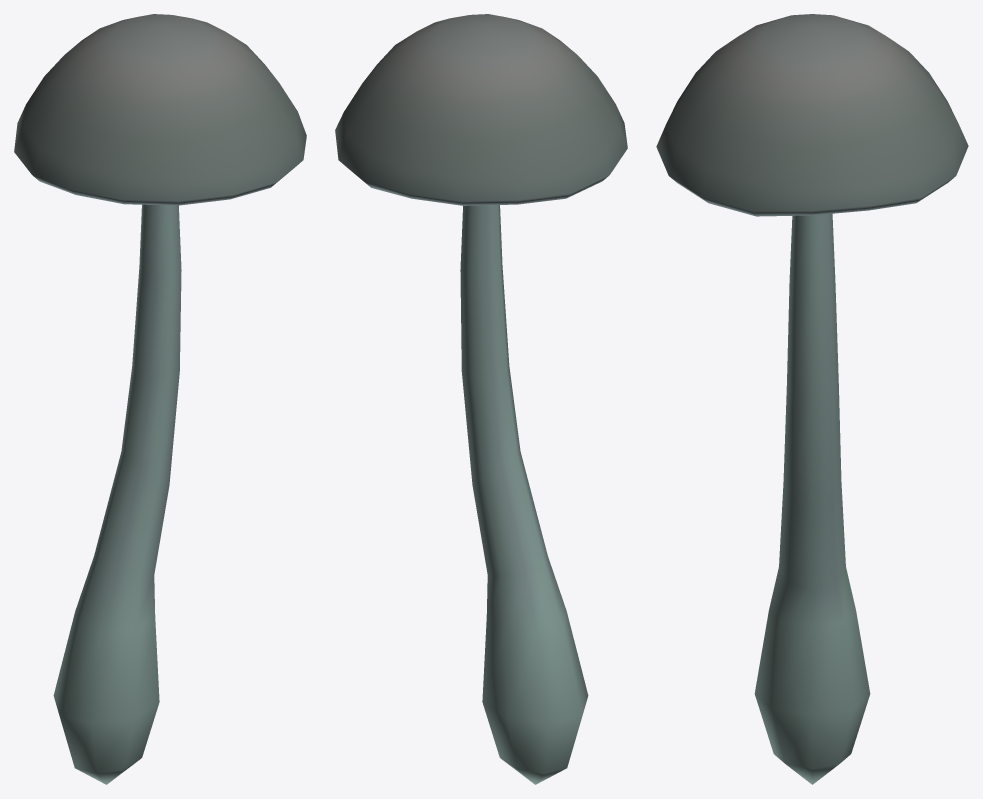
The model's file is plants-mushrooms-pale-blue-mushroom_v1.glb.
The picture shows the model from 3 angles, left to right: view 1: azimuth 30°, elevation 25°; view 2: azimuth 150°, elevation 25°; view 3: azimuth 270°, elevation 25°; orthographic projection. The views are drawn at different scales.
Parts seen in each view (by area): view 1: Pale Blue Mushroom_v1; view 2: Pale Blue Mushroom_v1; view 3: Pale Blue Mushroom_v1.
Boxes of the visible parts, x1,y1,x2,y2 form: Pale Blue Mushroom_v1: (14,14,306,784); Pale Blue Mushroom_v1: (335,14,627,784); Pale Blue Mushroom_v1: (656,14,968,784).
Size of the model in its own units: 0.0432 by 0.12 by 0.0432.
